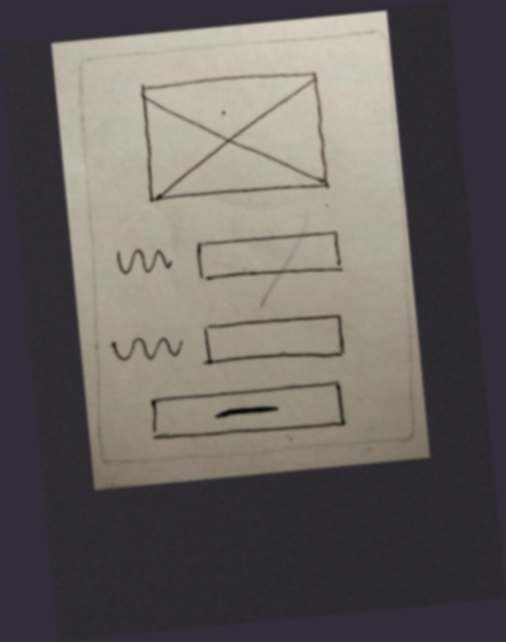button: (143, 371, 350, 452)
image: (131, 58, 342, 219)
text: (108, 231, 183, 296), (102, 325, 190, 378)
text_input: (190, 220, 351, 291), (193, 307, 353, 373)
